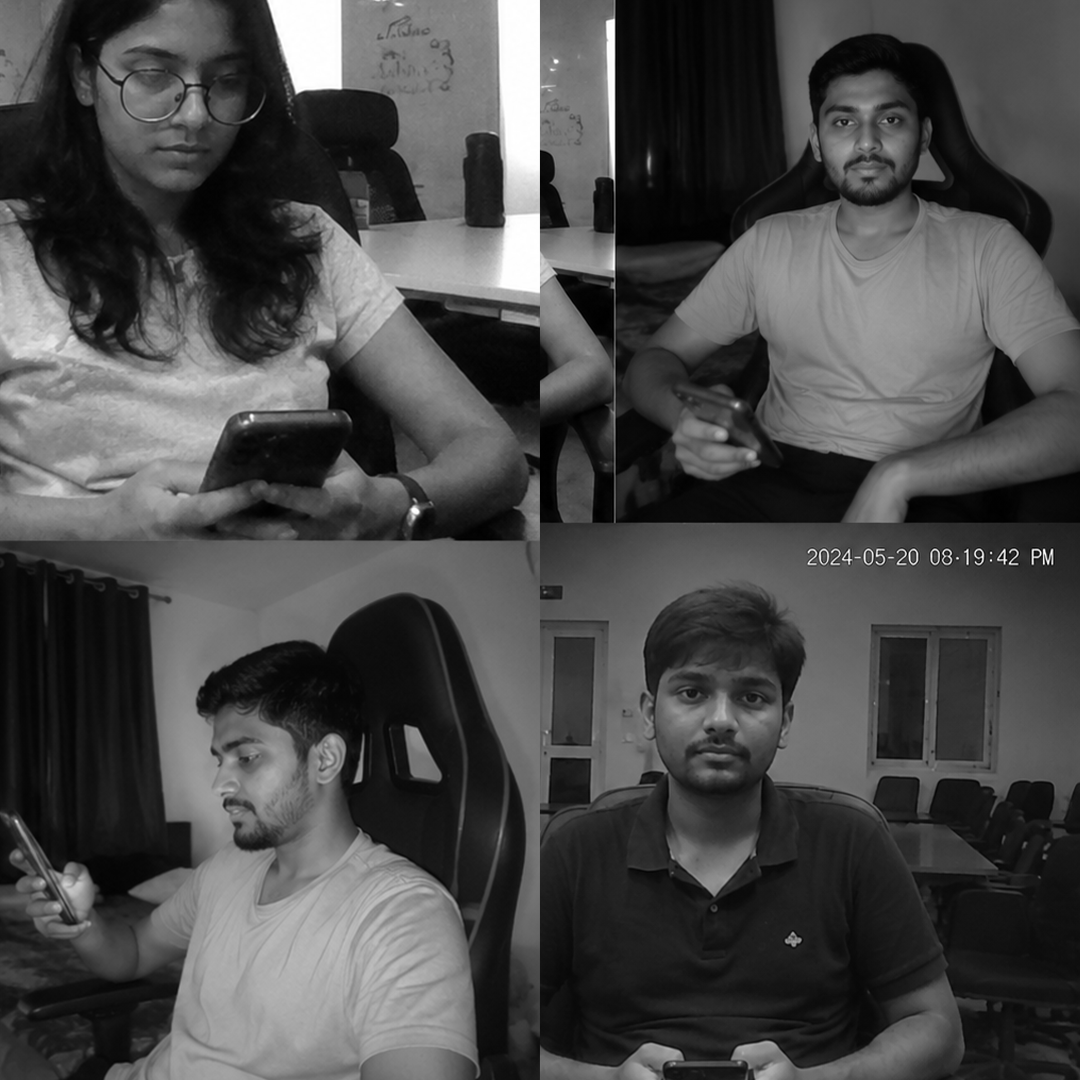Focused: (593, 557, 1006, 1039), (735, 15, 1029, 447)
distracted: (6, 6, 460, 533), (81, 662, 453, 1051)
